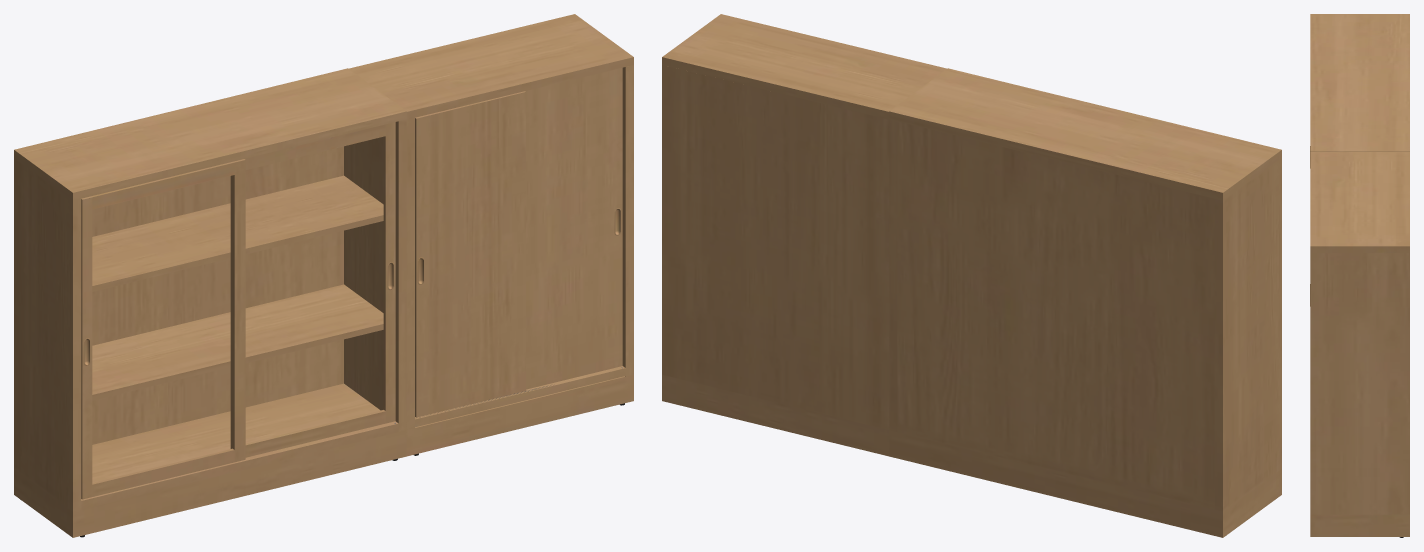
The picture shows the model from 3 angles, left to right: view 1: azimuth 30°, elevation 25°; view 2: azimuth 150°, elevation 25°; view 3: azimuth 270°, elevation 25°; orthographic projection. The views are drawn at different scales.
Parts seen in each view (by area): view 1: id:6de66693-eee3-4e0f-9248-5c2ab4dd975c:node0[cabinet].002; view 2: id:6de66693-eee3-4e0f-9248-5c2ab4dd975c:node0[cabinet].002; view 3: id:6de66693-eee3-4e0f-9248-5c2ab4dd975c:node0[cabinet].002.
Boxes of the visible parts, x1,y1,x2,y2 form: id:6de66693-eee3-4e0f-9248-5c2ab4dd975c:node0[cabinet].002: (14,14,633,537); id:6de66693-eee3-4e0f-9248-5c2ab4dd975c:node0[cabinet].002: (662,14,1281,537); id:6de66693-eee3-4e0f-9248-5c2ab4dd975c:node0[cabinet].002: (1310,14,1409,537).
Bounding box in the file's own units: 2.03 × 1.2 × 0.37.
Materials: 1 (1 with a texture image).
